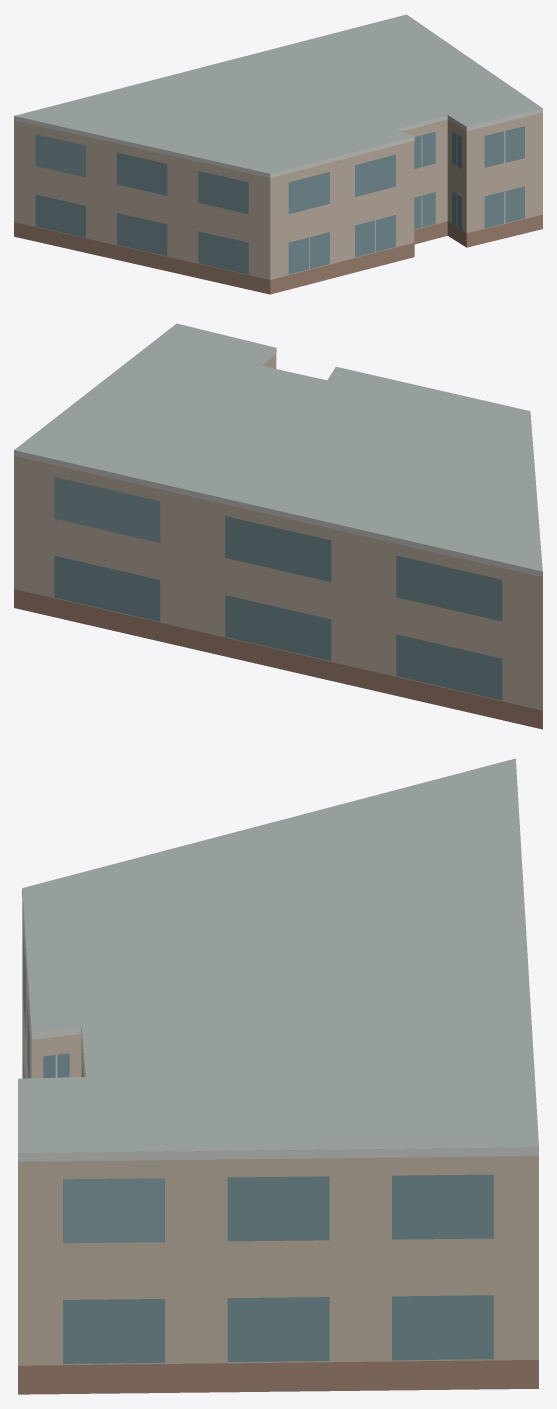
The model's file is survey-upis-32467661.glb.
The picture shows the model from 3 angles, top to bottom: view 1: azimuth 30°, elevation 25°; view 2: azimuth 150°, elevation 25°; view 3: azimuth 270°, elevation 25°; orthographic projection. The views are drawn at different scales.
Visible parts, largest first — view 1: survey-upis-32467661.tmp; view 2: survey-upis-32467661.tmp; view 3: survey-upis-32467661.tmp.
Boxes of the visible parts, <box> form: survey-upis-32467661.tmp: <box>14,14,542,294</box>; survey-upis-32467661.tmp: <box>14,323,542,729</box>; survey-upis-32467661.tmp: <box>18,758,538,1394</box>.
Size of the model in its own units: 23.78 by 6.78 by 13.28.
